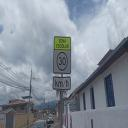speed_limit_30: (56, 52, 69, 72)
